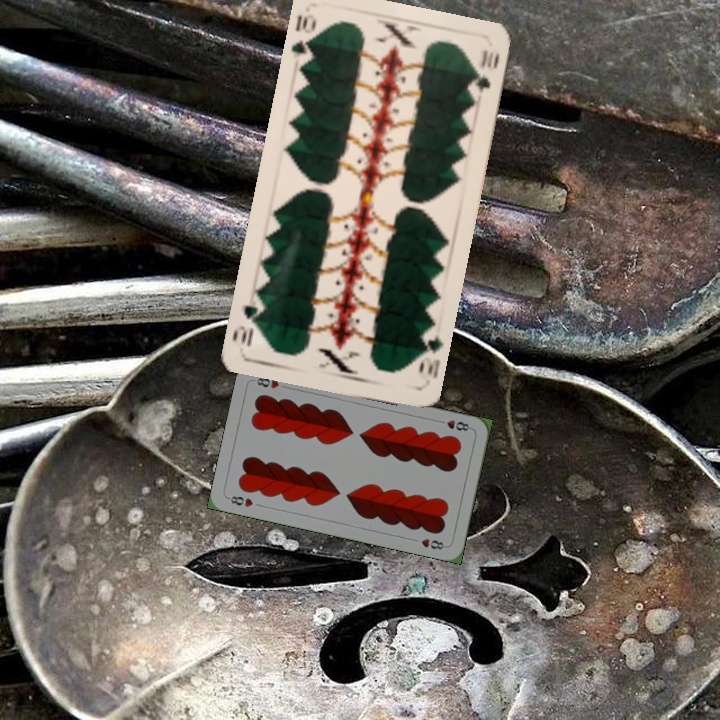G10: (287, 10, 319, 67), (414, 327, 445, 381)
H8: (434, 416, 474, 434), (224, 492, 255, 510)
